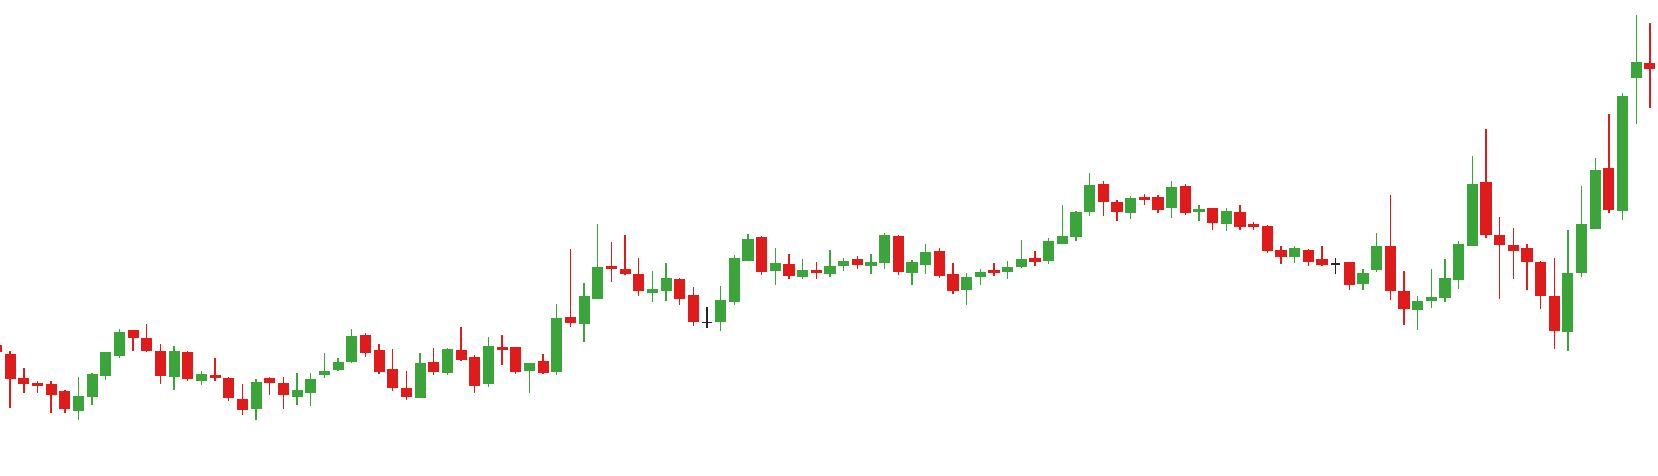buy: (1398, 232, 1576, 354)
